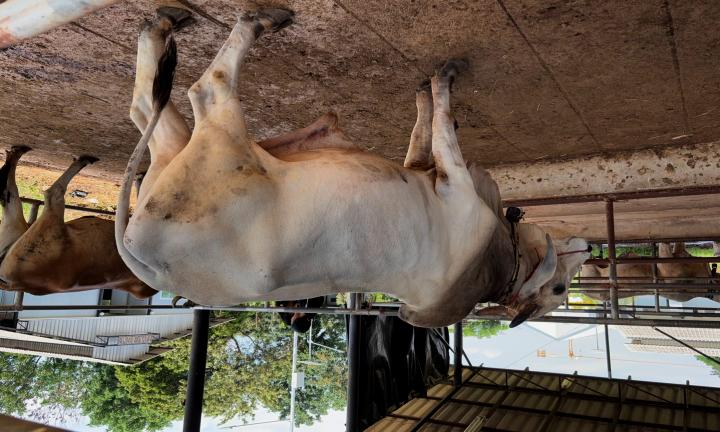Brahman: (116, 8, 587, 327)
